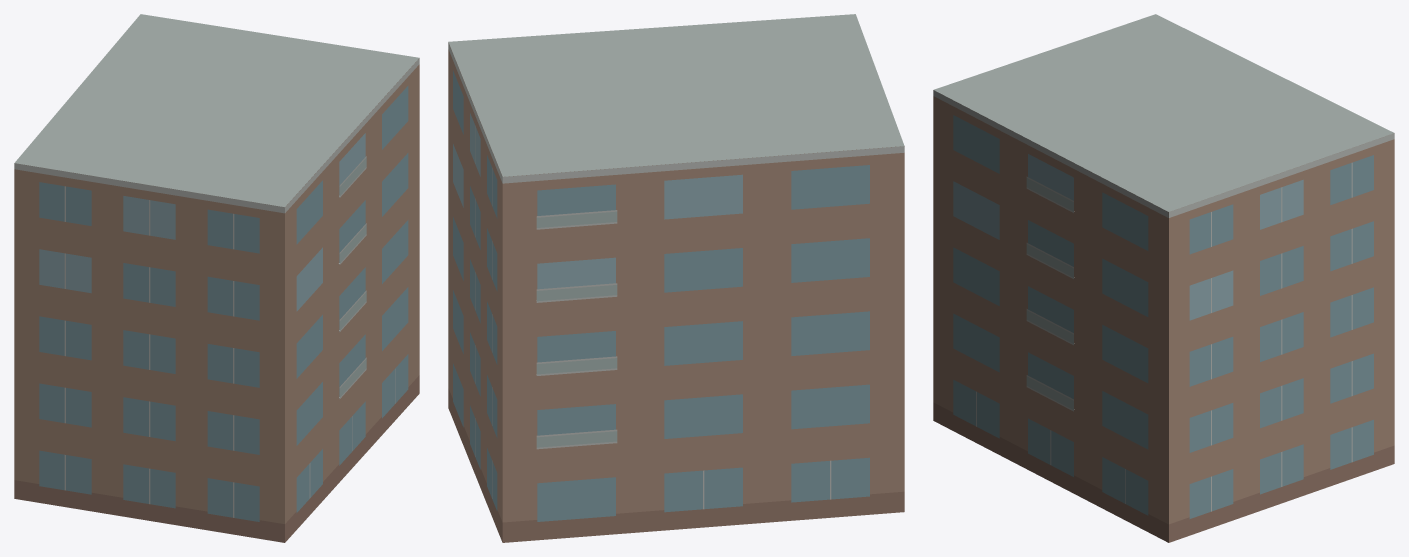
Rendered from survey-upis-33017781.glb.
3 views of the same model, side by side, from view 1: azimuth 30°, elevation 25°; view 2: azimuth 150°, elevation 25°; view 3: azimuth 270°, elevation 25° (orthographic). The views are drawn at different scales.
Parts seen in each view (by area): view 1: survey-upis-33017781.tmp; view 2: survey-upis-33017781.tmp; view 3: survey-upis-33017781.tmp.
Boxes of the visible parts, x1,y1,x2,y2 form: survey-upis-33017781.tmp: [14, 14, 419, 542]; survey-upis-33017781.tmp: [448, 14, 904, 542]; survey-upis-33017781.tmp: [933, 14, 1394, 542].
Bounding box in the file's own units: 17.09 × 13.3 × 16.82.
